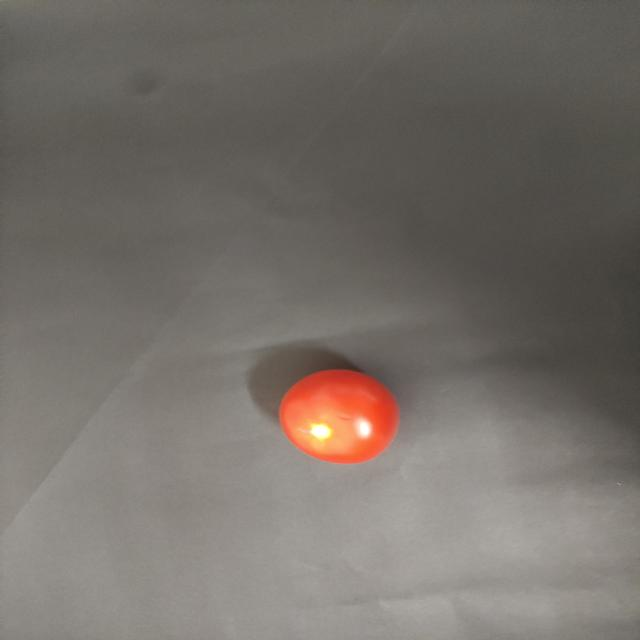kirmizi: (271, 356, 415, 478)
